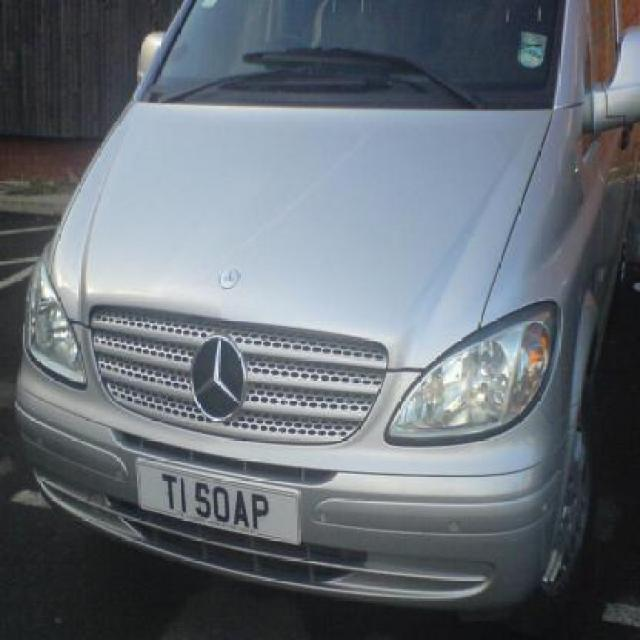License-Plates: (134, 455, 307, 548)
